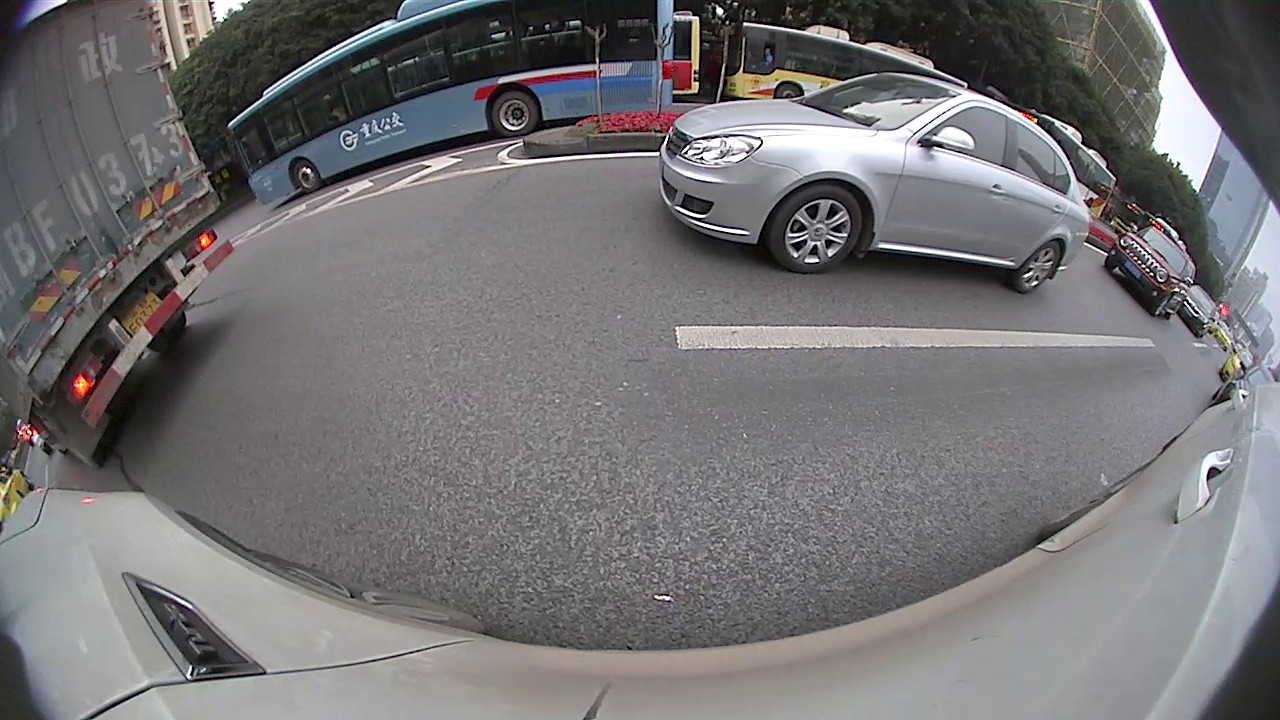bus: (226, 1, 674, 217), (726, 20, 969, 101), (1017, 110, 1116, 222), (670, 16, 699, 93)
car: (659, 71, 1094, 296), (1110, 224, 1194, 321), (1181, 289, 1219, 339)
front: (762, 181, 864, 275), (293, 159, 321, 194)
rear: (1008, 239, 1062, 294), (490, 89, 539, 139)
truck: (3, 0, 230, 474)
